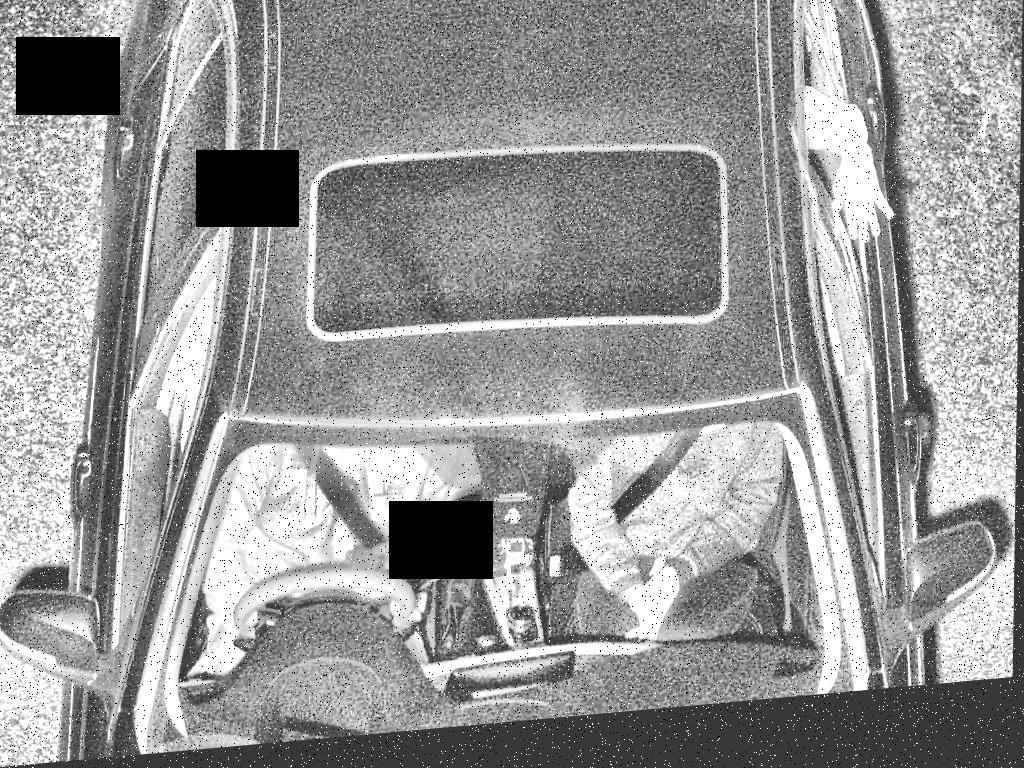seatbelt: (554, 440, 707, 579), (295, 436, 414, 585)
